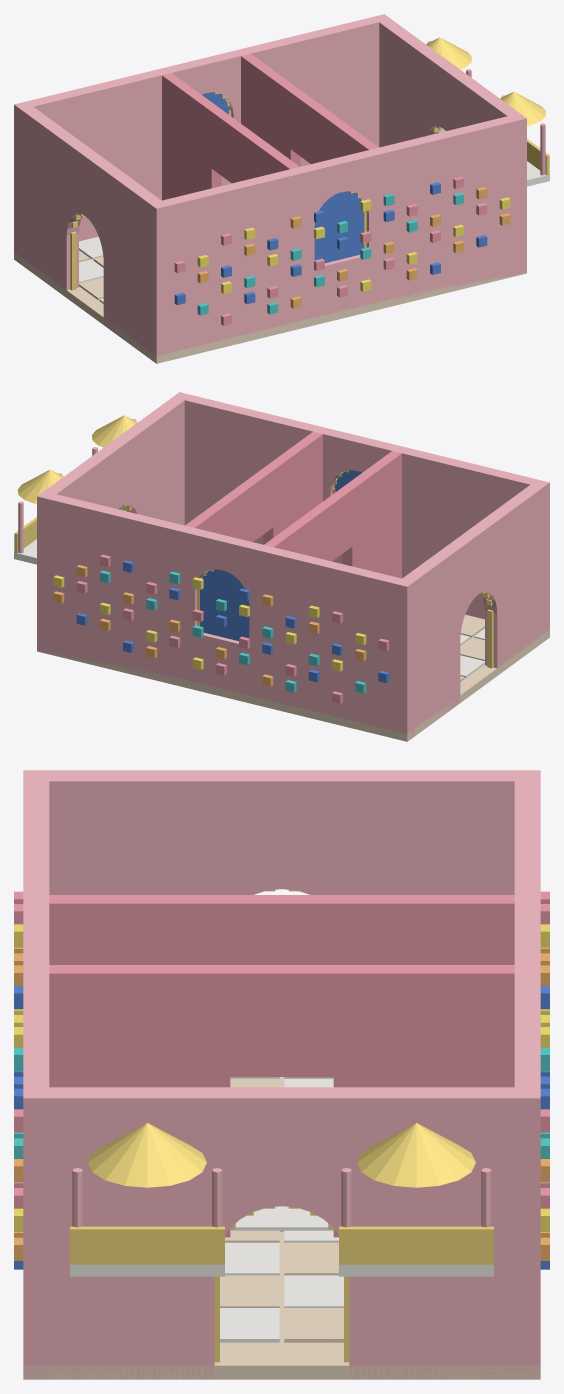
The model's file is room_ranivas.glb.
3 views of the same model, one above another, from view 1: azimuth 30°, elevation 25°; view 2: azimuth 150°, elevation 25°; view 3: azimuth 270°, elevation 25° (orthographic). The views are drawn at different scales.
Parts seen in each view (by area): view 1: Room_Ranivas; view 2: Room_Ranivas; view 3: Room_Ranivas.
Part boxes in pixels (box(x1,y1,x2,y2)): Room_Ranivas: box(14, 14, 549, 363); Room_Ranivas: box(14, 392, 549, 741); Room_Ranivas: box(14, 770, 549, 1379).
Bounding box in the file's own units: 17 × 6 × 10.36.
